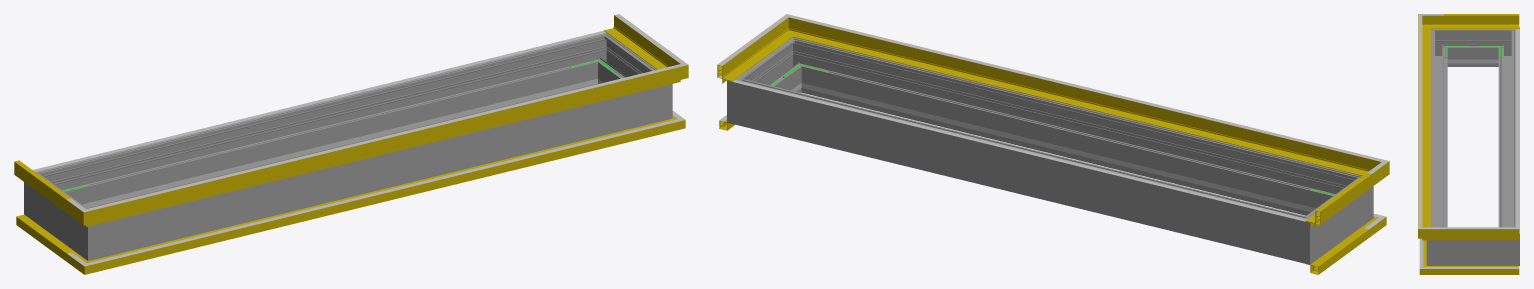
3 views of the same model, side by side, from view 1: azimuth 30°, elevation 25°; view 2: azimuth 150°, elevation 25°; view 3: azimuth 270°, elevation 25° (orthographic). The views are drawn at different scales.
Parts seen in each view (by area): view 1: 3DGeom-276, 3DGeom-298, 3DGeom-56, 3DGeom-11, 3DGeom-244, 3DGeom-220, 3DGeom-66, 3DGeom-20, 3DGeom-270, 3DGeom-58, 3DGeom-284, 3DGeom-290 (+8 smaller); view 2: 3DGeom-298, 3DGeom-276, 3DGeom-56, 3DGeom-239, 3DGeom-278, 3DGeom-220, 3DGeom-66, 3DGeom-284, 3DGeom-58, 3DGeom-290, 3DGeom-297, 3DGeom-268 (+5 smaller); view 3: 3DGeom-276, 3DGeom-298, 3DGeom-56, 3DGeom-268, 3DGeom-297, 3DGeom-50, 3DGeom-220, 3DGeom-66, 3DGeom-58, 3DGeom-284, 3DGeom-290, 3DGeom-278 (+14 smaller).
Part boxes in pixels (x1=…): 3DGeom-276: x1=57, y1=39, x2=592, y2=208; 3DGeom-298: x1=118, y1=91, x2=642, y2=253; 3DGeom-56: x1=111, y1=72, x2=658, y2=220; 3DGeom-11: x1=110, y1=124, x2=655, y2=267; 3DGeom-244: x1=93, y1=85, x2=568, y2=206; 3DGeom-220: x1=33, y1=30, x2=606, y2=171; 3DGeom-66: x1=112, y1=70, x2=657, y2=204; 3DGeom-20: x1=112, y1=125, x2=654, y2=258; 3DGeom-270: x1=70, y1=204, x2=118, y2=260; 3DGeom-58: x1=604, y1=15, x2=666, y2=68; 3DGeom-284: x1=581, y1=33, x2=621, y2=85; 3DGeom-290: x1=642, y1=65, x2=672, y2=125; 3DGeom-298: x1=806, y1=43, x2=1340, y2=215; 3DGeom-276: x1=757, y1=84, x2=1284, y2=257; 3DGeom-56: x1=808, y1=23, x2=1356, y2=172; 3DGeom-239: x1=830, y1=90, x2=1304, y2=210; 3DGeom-278: x1=1280, y1=207, x2=1327, y2=264; 3DGeom-220: x1=732, y1=80, x2=1306, y2=221; 3DGeom-66: x1=814, y1=21, x2=1358, y2=155; 3DGeom-284: x1=727, y1=69, x2=762, y2=129; 3DGeom-58: x1=717, y1=28, x2=784, y2=83; 3DGeom-290: x1=778, y1=37, x2=817, y2=93; 3DGeom-297: x1=749, y1=48, x2=798, y2=92; 3DGeom-268: x1=1318, y1=186, x2=1356, y2=251; 3DGeom-276: x1=1498, y1=38, x2=1515, y2=227; 3DGeom-298: x1=1430, y1=38, x2=1447, y2=227; 3DGeom-56: x1=1418, y1=25, x2=1430, y2=227; 3DGeom-268: x1=1452, y1=29, x2=1494, y2=66; 3DGeom-297: x1=1452, y1=240, x2=1494, y2=265; 3DGeom-50: x1=1443, y1=15, x2=1519, y2=28; 3DGeom-220: x1=1515, y1=28, x2=1519, y2=233; 3DGeom-66: x1=1418, y1=24, x2=1422, y2=218; 3DGeom-58: x1=1443, y1=229, x2=1519, y2=240; 3DGeom-284: x1=1494, y1=224, x2=1519, y2=265; 3DGeom-290: x1=1426, y1=224, x2=1451, y2=265; 3DGeom-278: x1=1494, y1=27, x2=1519, y2=66.
Bounding box in the file's own units: 3.05 × 0.307 × 0.6096.
